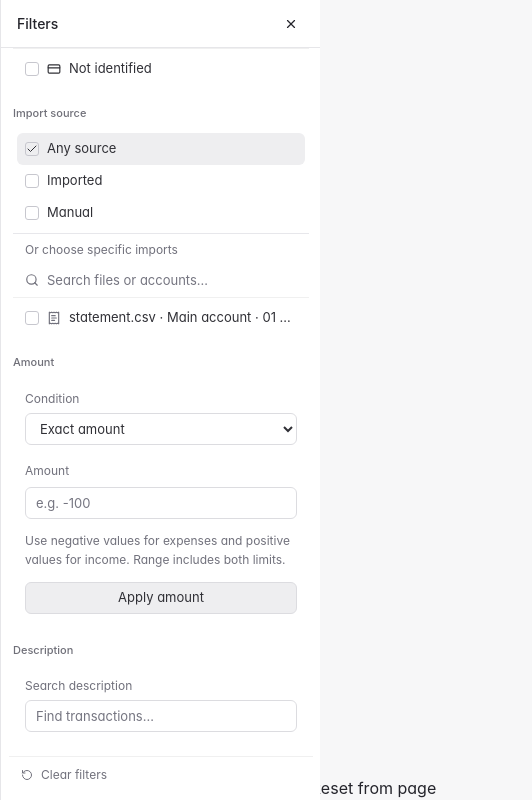
reusable transaction filters › debounces search without overwriting category choices made while typing
(page scrolled)
Type "Coffee" into the field labelled "Search description". click: (161, 716)
box: left=25, top=700, right=297, bottom=732
Wait 199 ms
(page scrolled)
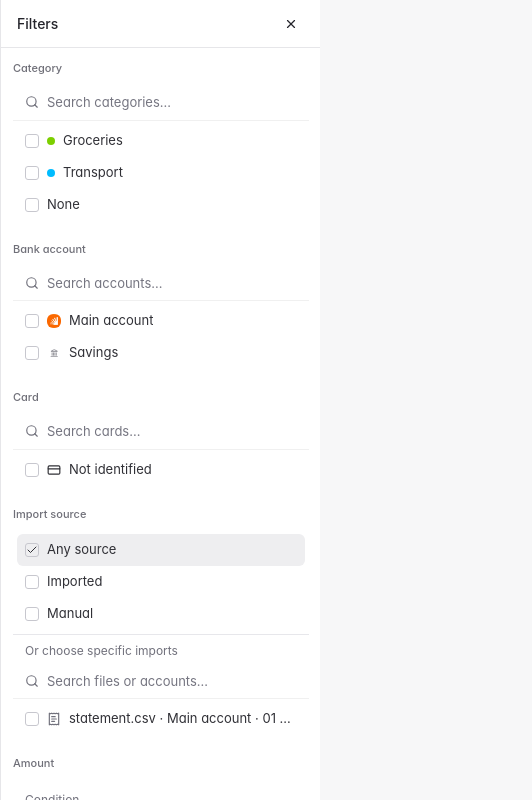
Click the checkbox named "Groceries". click: (32, 140)
box: left=25, top=134, right=39, bottom=148
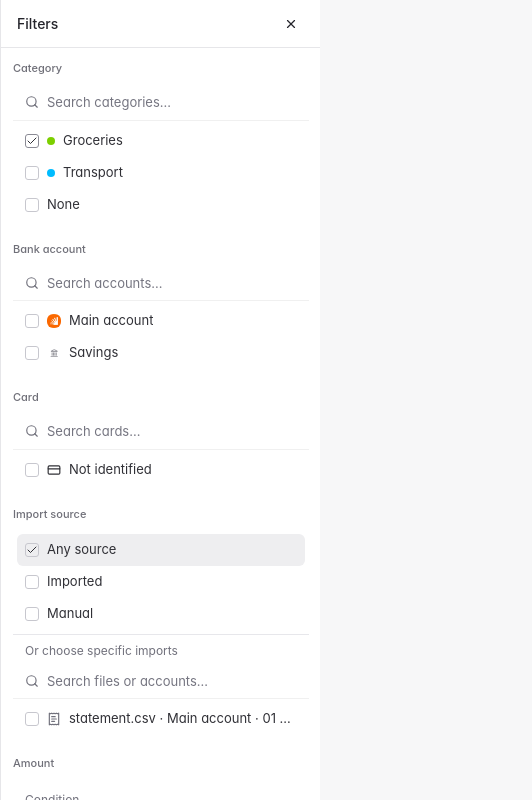
Click the checkbox named "None". click: (32, 204)
box: left=25, top=198, right=39, bottom=212
Wait 1 ms
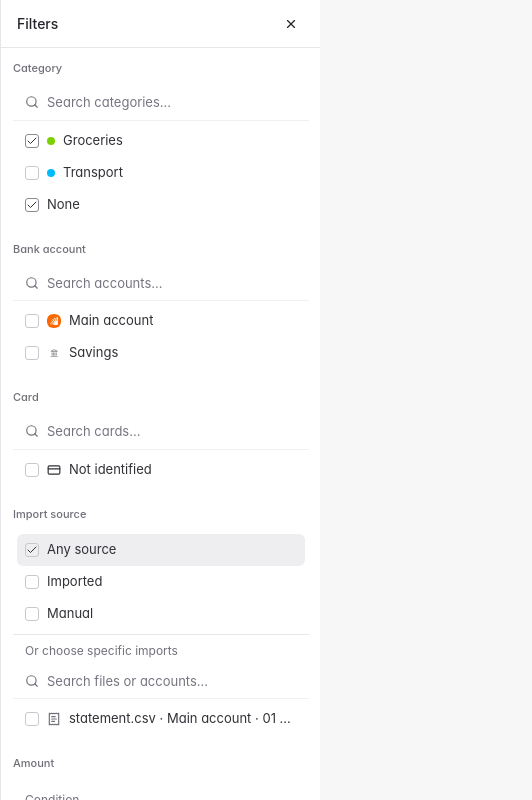
Click the checkbox named "Groceries". click: (32, 140)
box: left=25, top=134, right=39, bottom=148
(page scrolled)
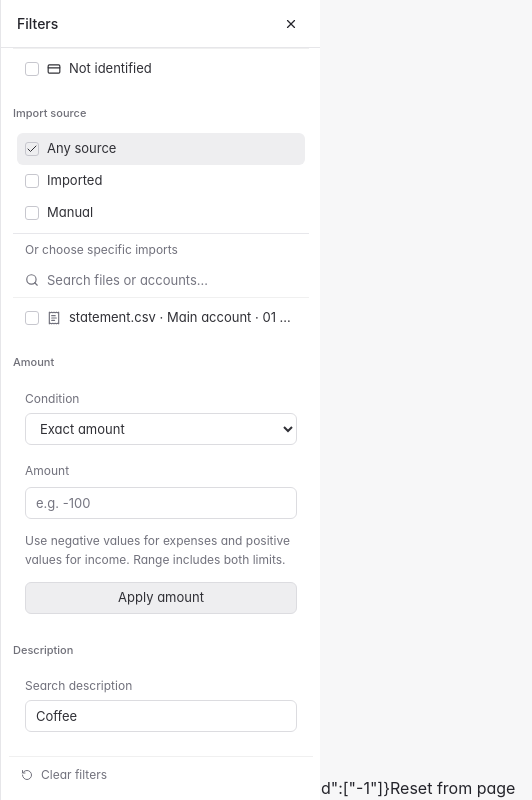
Click the button "Clear filters". click: (74, 774)
box: left=9, top=756, right=313, bottom=792
Wait 200 ms
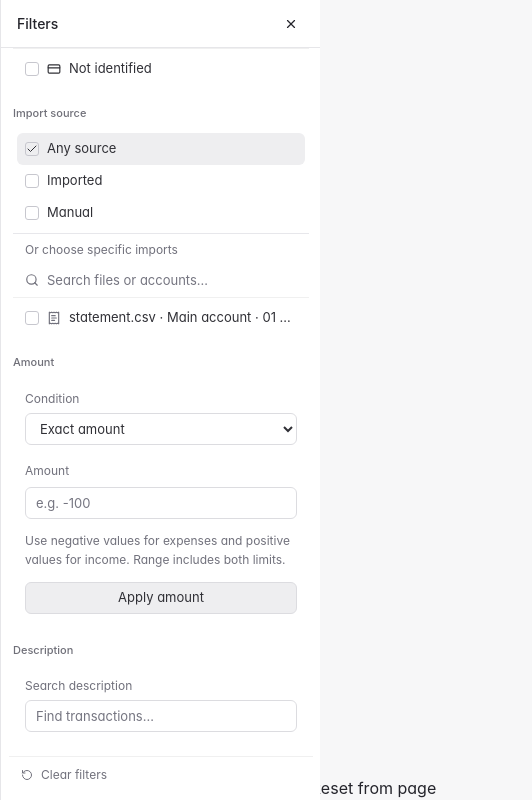
expect the field labelled "Search description" is empty: met, box left=25, top=700, right=297, bottom=732
